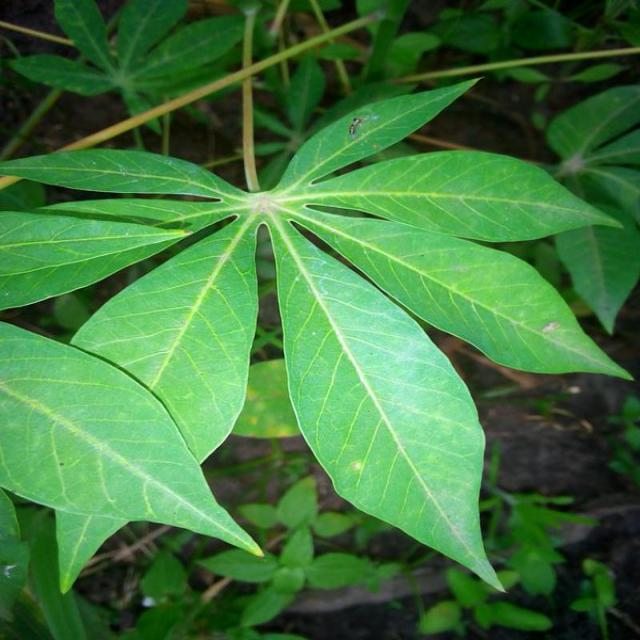cassava leaf: (1, 72, 634, 598), (268, 209, 508, 593), (2, 318, 266, 594), (70, 210, 262, 465)
